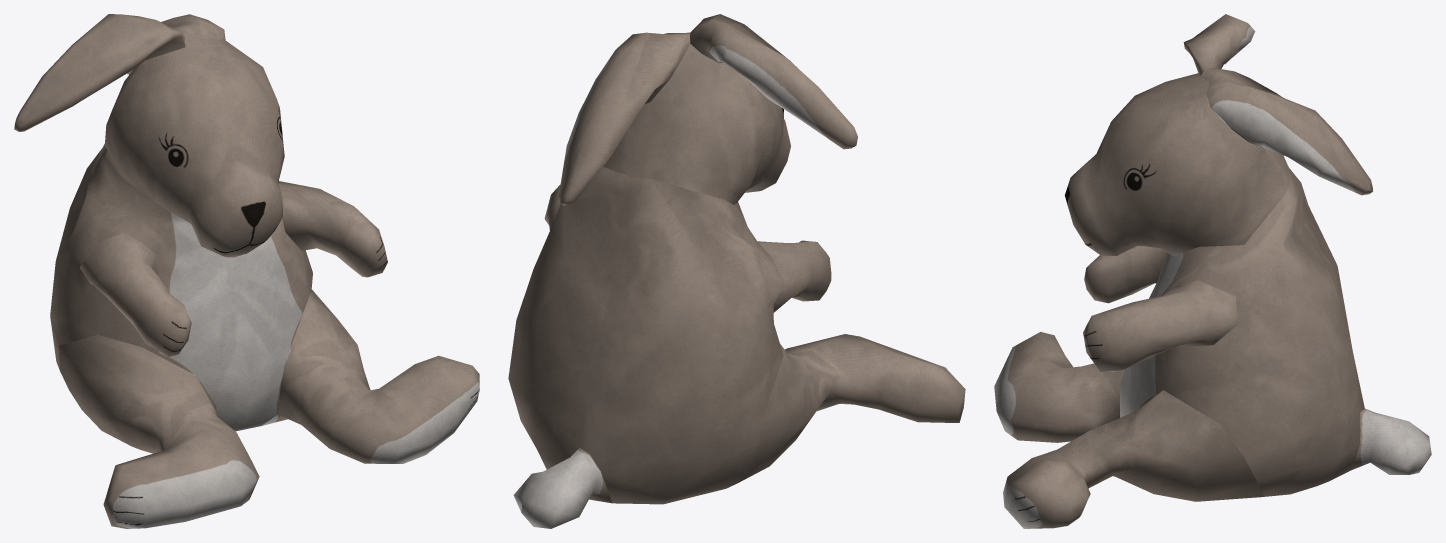
Rendered from Bunny.FBX.
3 views of the same model, side by side, from view 1: azimuth 30°, elevation 25°; view 2: azimuth 150°, elevation 25°; view 3: azimuth 270°, elevation 25° (orthographic). The views are drawn at different scales.
Visible parts, largest first — view 1: Bunny_LOD0; view 2: Bunny_LOD0; view 3: Bunny_LOD0.
Part boxes in pixels (x1,y1,x2,y2): Bunny_LOD0: (14, 14, 479, 528); Bunny_LOD0: (508, 14, 965, 528); Bunny_LOD0: (994, 14, 1431, 528).
Size of what is drawn, in the model's own units: 32.72 by 34.56 by 33.25.
